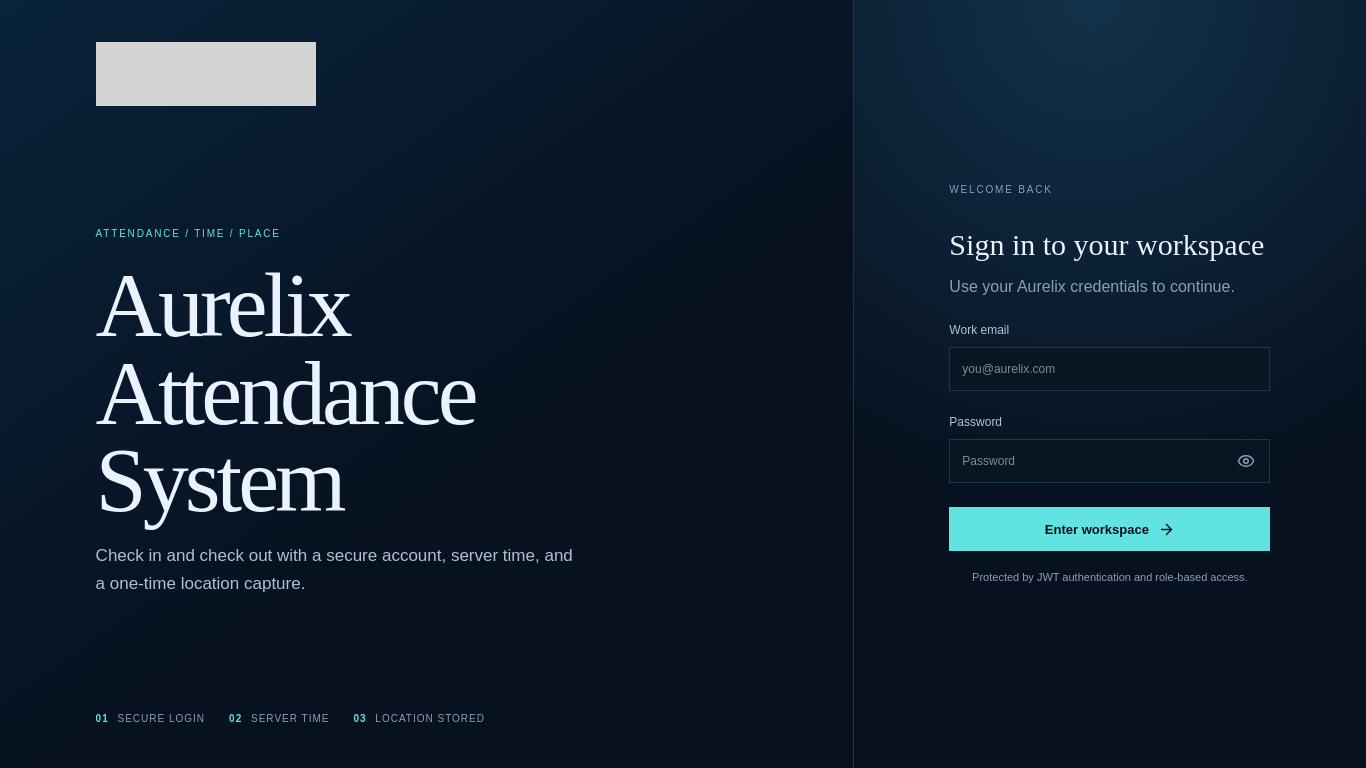
login password visibility control › shows an accurate login message for each failure type
Type "employee@example.com" into the field with placeholder "you@aurelix.com" at (1110, 369), box left=949, top=347, right=1270, bottom=391
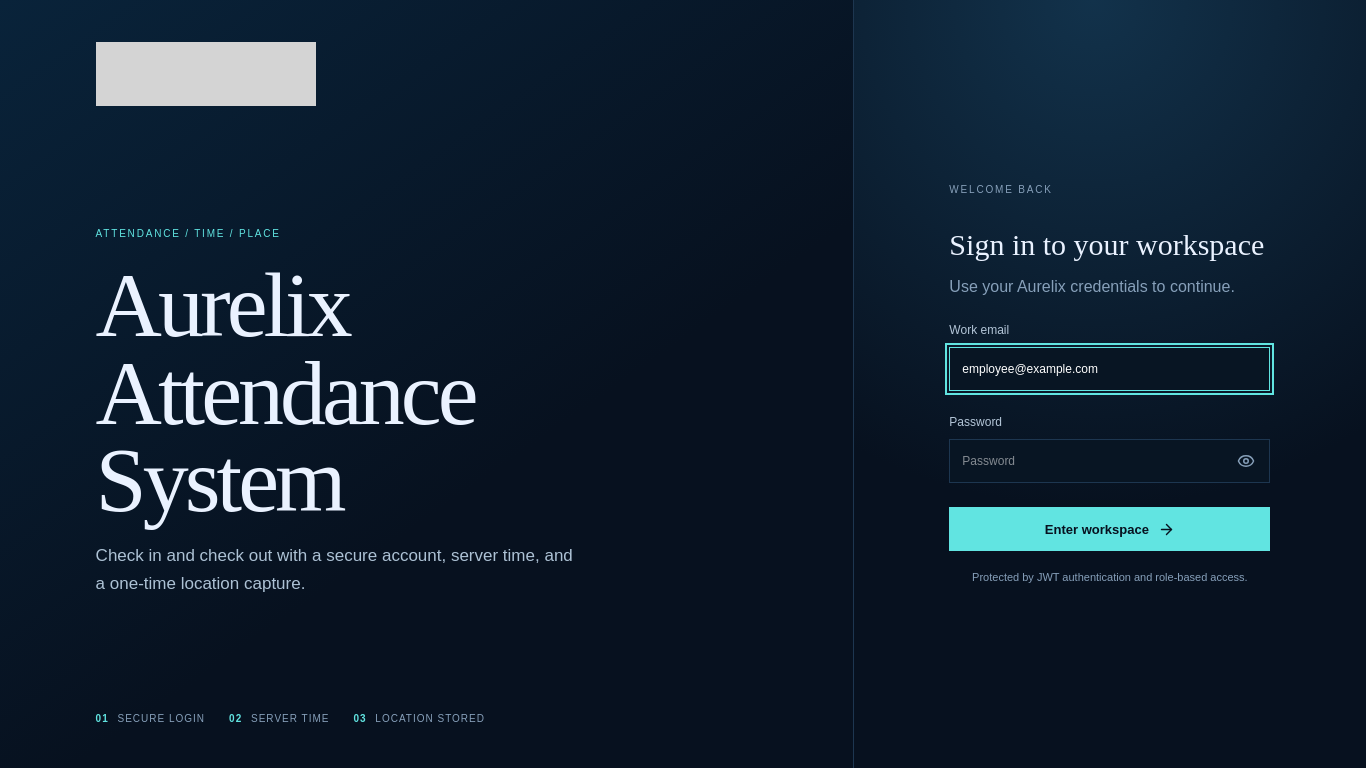
Type "Test-password-123" into the password field with placeholder "Password" at (1110, 461), box left=949, top=439, right=1270, bottom=483
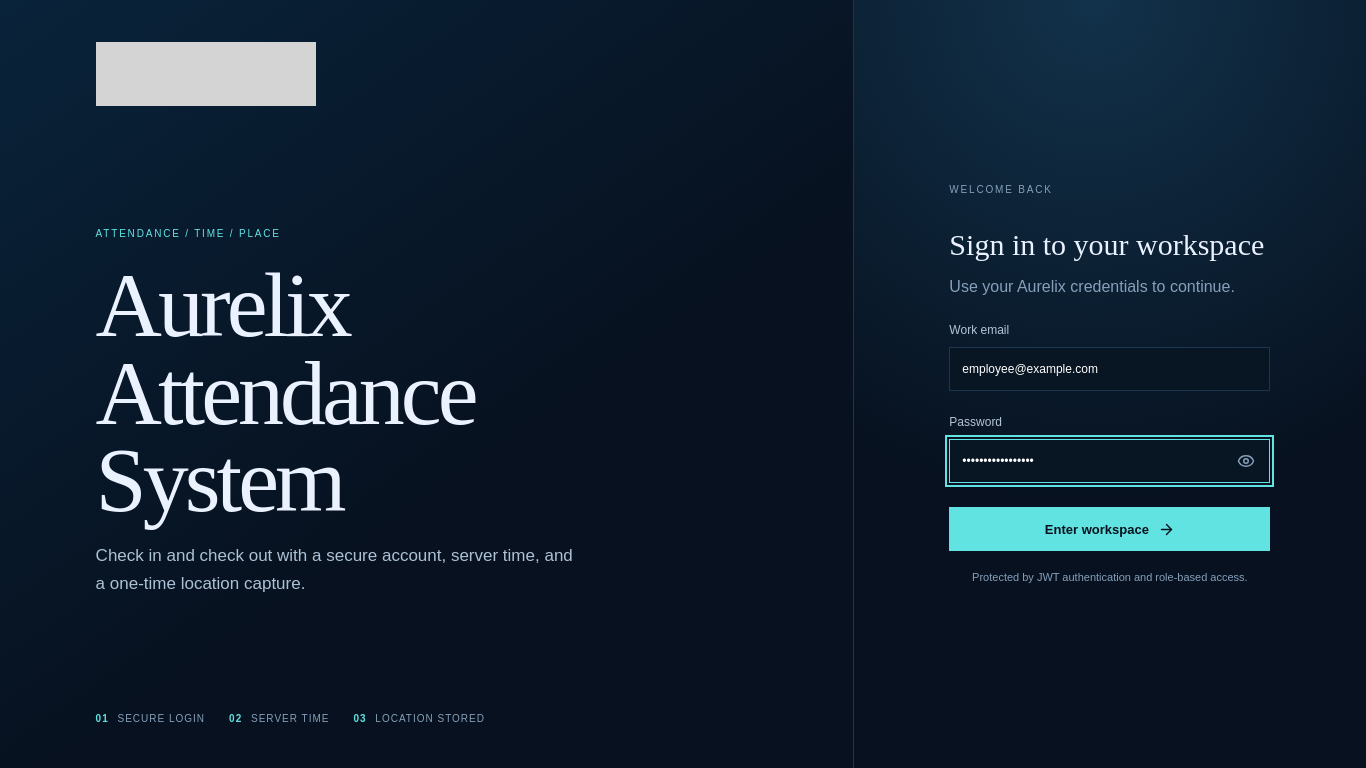
Submit the form named "Enter workspace", box left=949, top=184, right=1270, bottom=583
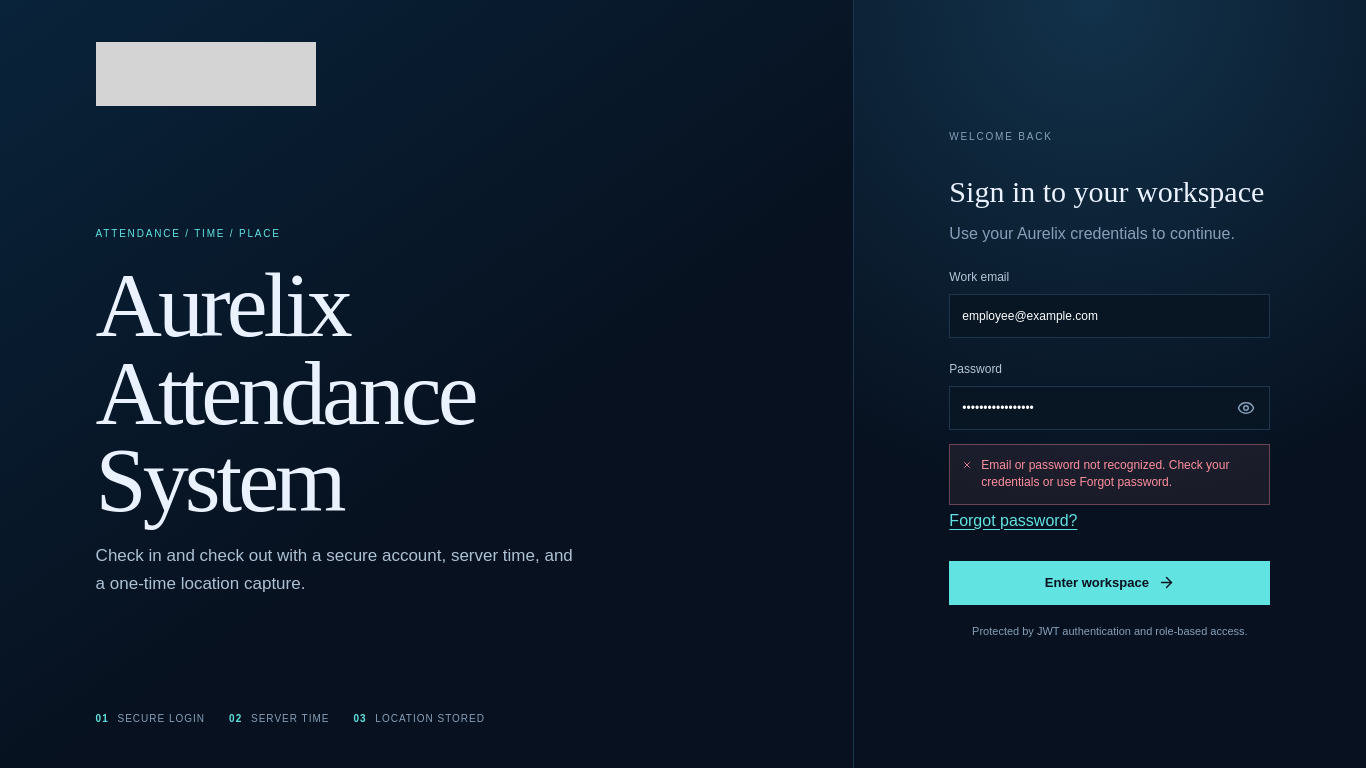
Now the text "Email or password not recognized. Check your credentials or use Forgot password." is shown, box left=949, top=444, right=1270, bottom=505
